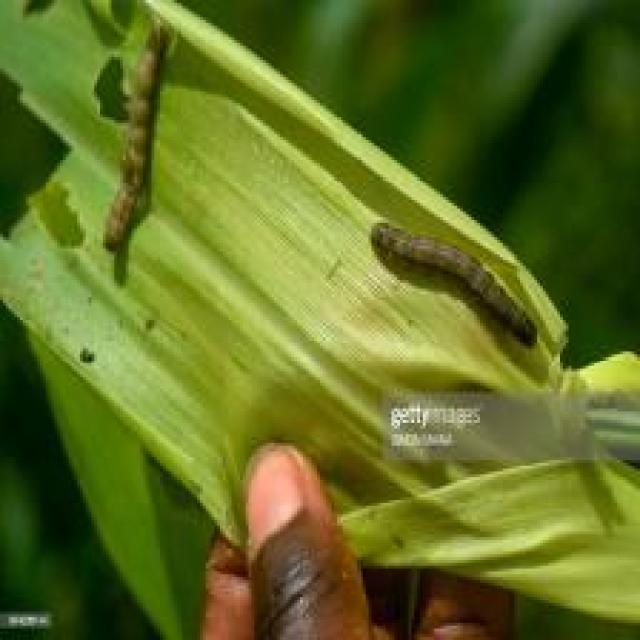Plaga: (367, 208, 547, 368), (108, 14, 168, 254)
